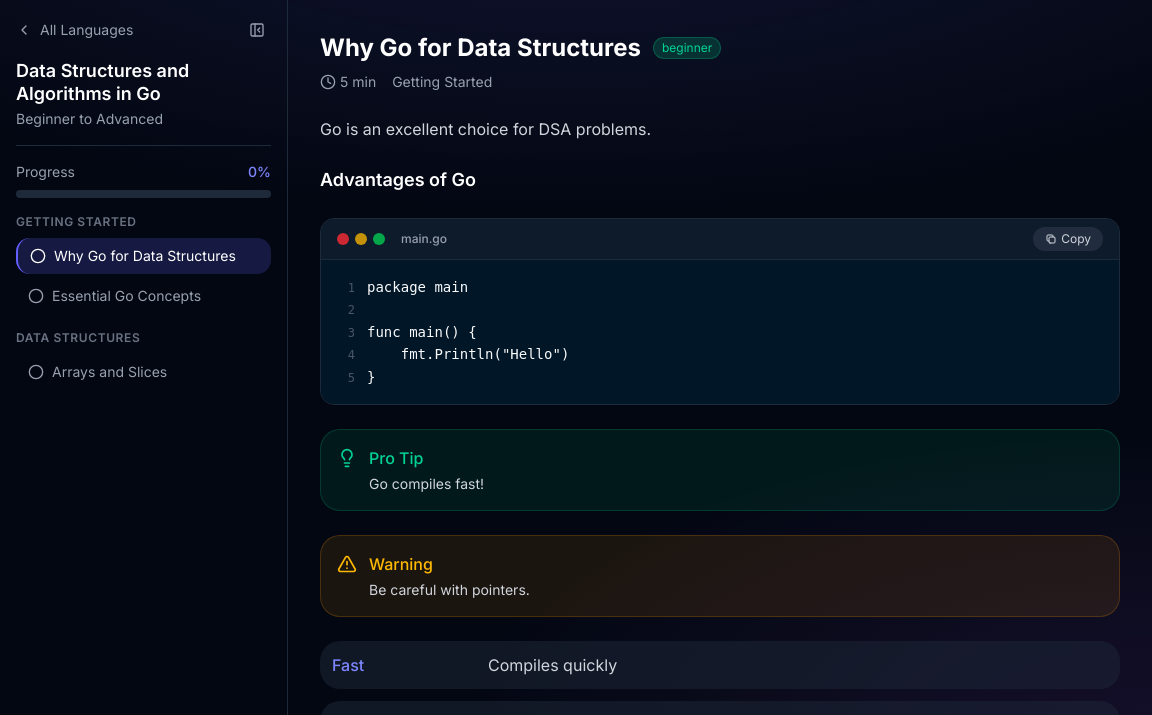
TutorialTab › Sidebar Collapse › shows expand button when sidebar is collapsed
This screenshot has width=1152, height=715.
What coordinates should you click on to do the following:
click the button titled "Collapse sidebar"
I would click on:
 (257, 30)
Its box is [243,16,271,44].
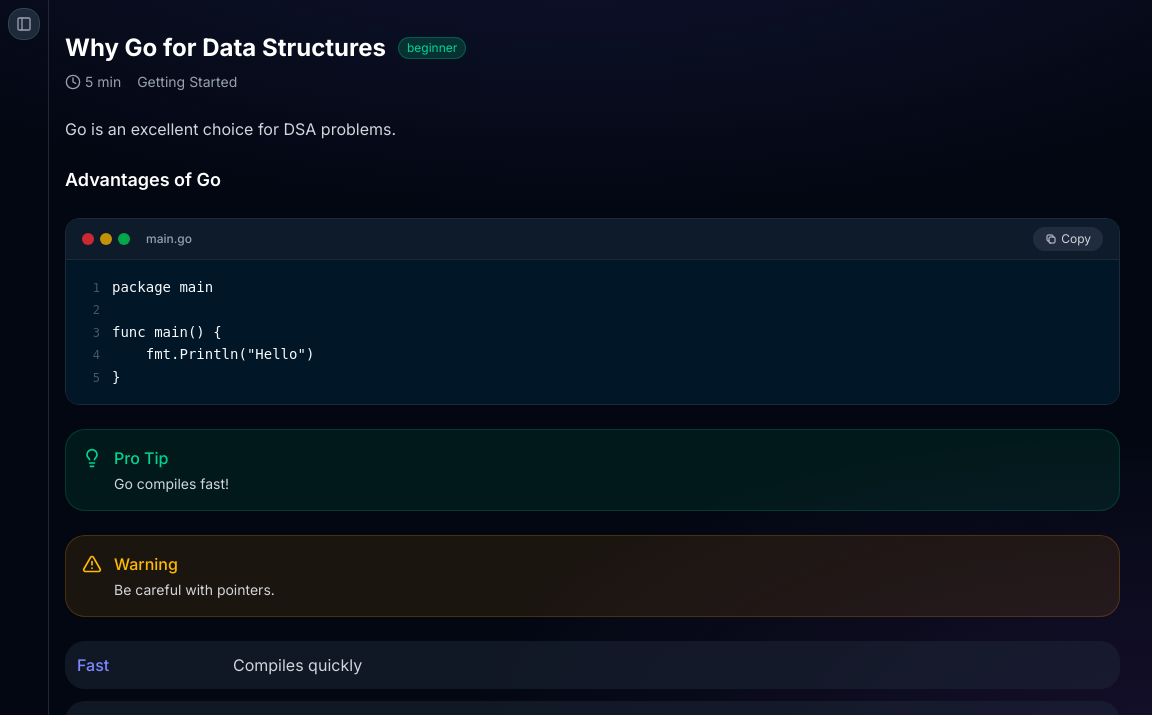
Check: the button titled "Expand sidebar" is shown, box [8,8,40,40]
